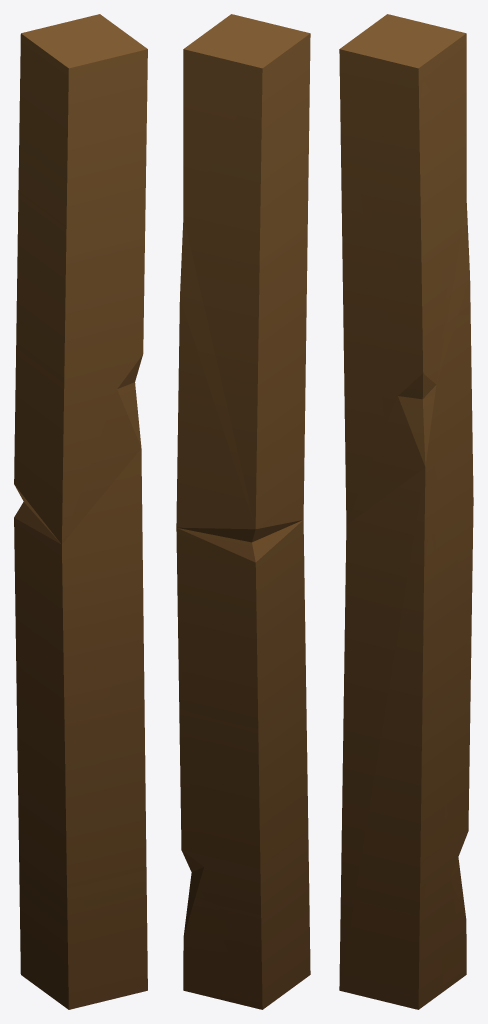
The model's file is Fence_06.fbx.
3 views of the same model, side by side, from view 1: azimuth 30°, elevation 25°; view 2: azimuth 150°, elevation 25°; view 3: azimuth 330°, elevation 25° (orthographic).
Parts seen in each view (by area): view 1: Fence_06; view 2: Fence_06; view 3: Fence_06.
Part boxes in pixels (x1,y1,x2,y2): Fence_06: (14,14,147,1009); Fence_06: (176,14,310,1009); Fence_06: (339,14,473,1009).
Bounding box in the file's own units: 9.99 × 113 × 11.99.
